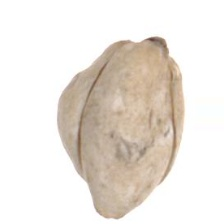L1: (116, 34, 178, 65), (89, 201, 134, 220)
L2: (56, 36, 185, 219)
